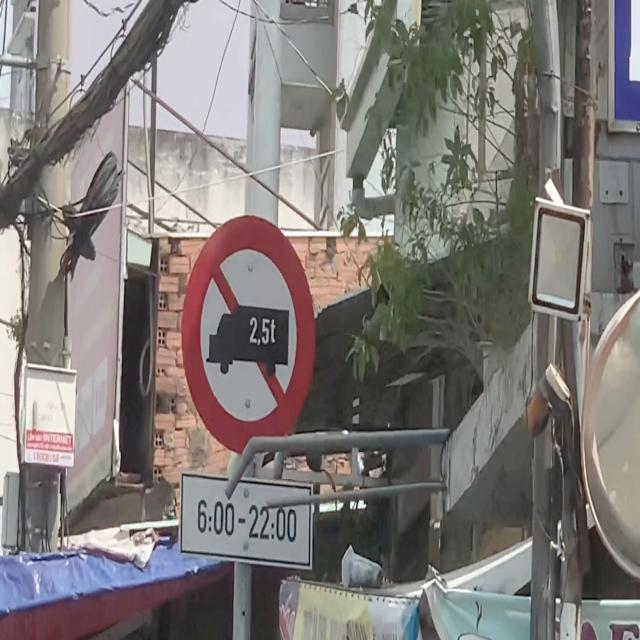Cam con lai: (180, 206, 314, 463)
